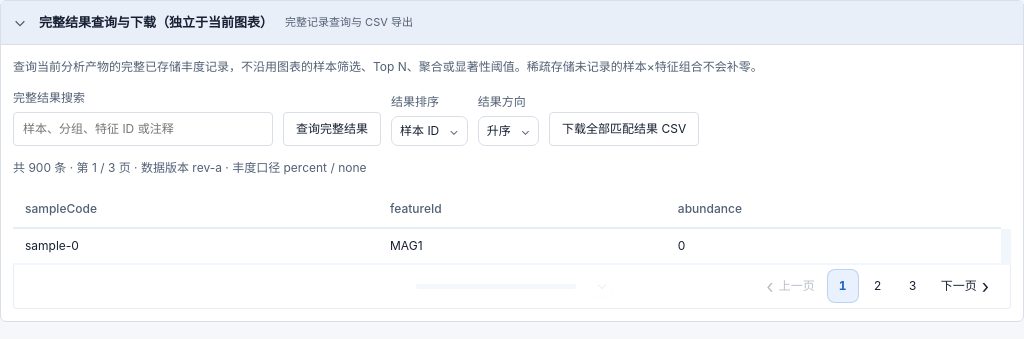
lazy loads full results, paginates, resets search and exports all matching rows
Check: the text "sample-0" is shown, box [13,229,378,263]
Click the button "下一页 ›" at (965, 286), box [932,269,998,303]
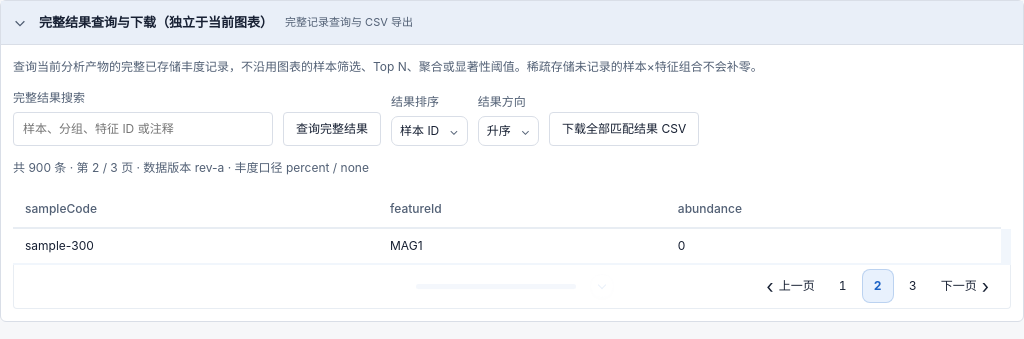
Check: the text "sample-300" is shown, box [13,229,378,263]
Type "CRR" into the field labelled "完整结果搜索" at (143, 129), box [13,112,273,146]
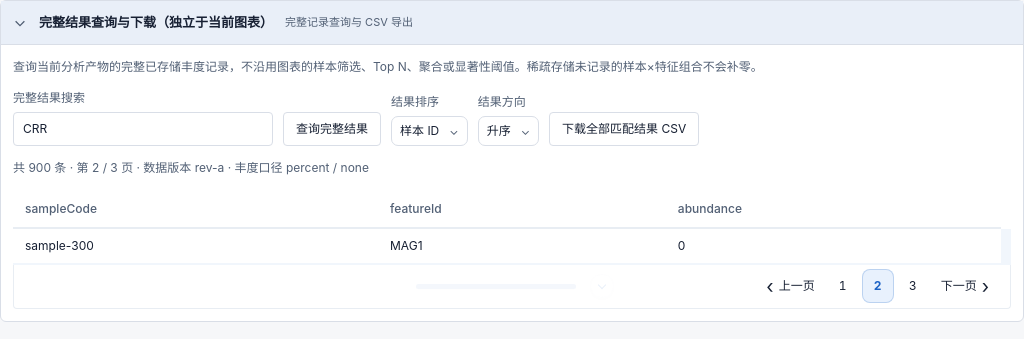
Click the button "查询完整结果" at (332, 129), box [283,112,381,146]
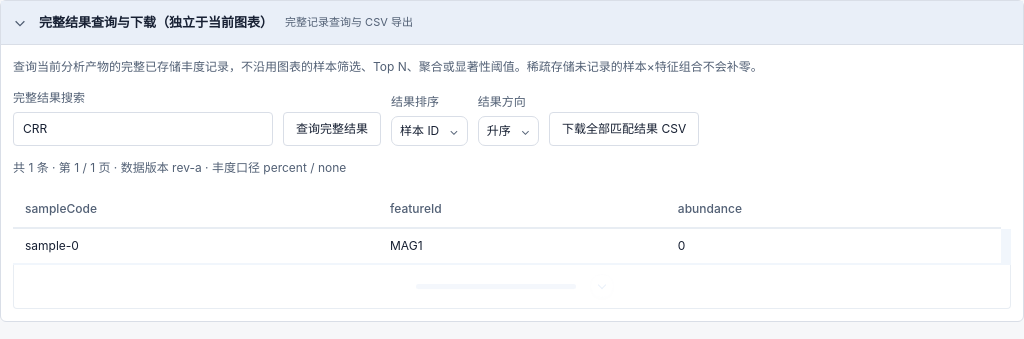
Check: the text "不会补零" is shown, box [13,59,763,74]
Check: the text "sample-0" is shown, box [13,229,378,263]
